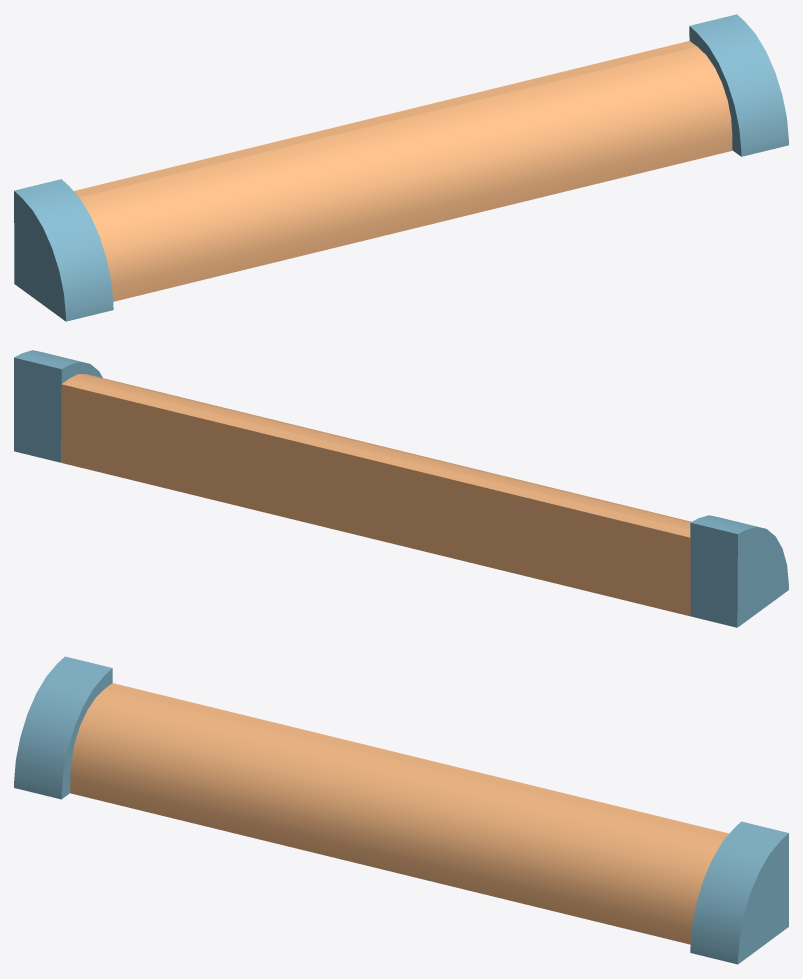
The model's file is Platform Edge B.fbx.
The picture shows the model from 3 angles, top to bottom: view 1: azimuth 30°, elevation 25°; view 2: azimuth 150°, elevation 25°; view 3: azimuth 330°, elevation 25°; orthographic projection.
Visible parts, largest first — view 1: Platform Edge B; view 2: Platform Edge B; view 3: Platform Edge B.
Part boxes in pixels (left/top/right/bottom): Platform Edge B: left=14, top=14, right=788, bottom=321; Platform Edge B: left=14, top=350, right=788, bottom=627; Platform Edge B: left=14, top=656, right=788, bottom=964.
Bounding box in the file's own units: 553 × 68.5 × 68.28.
